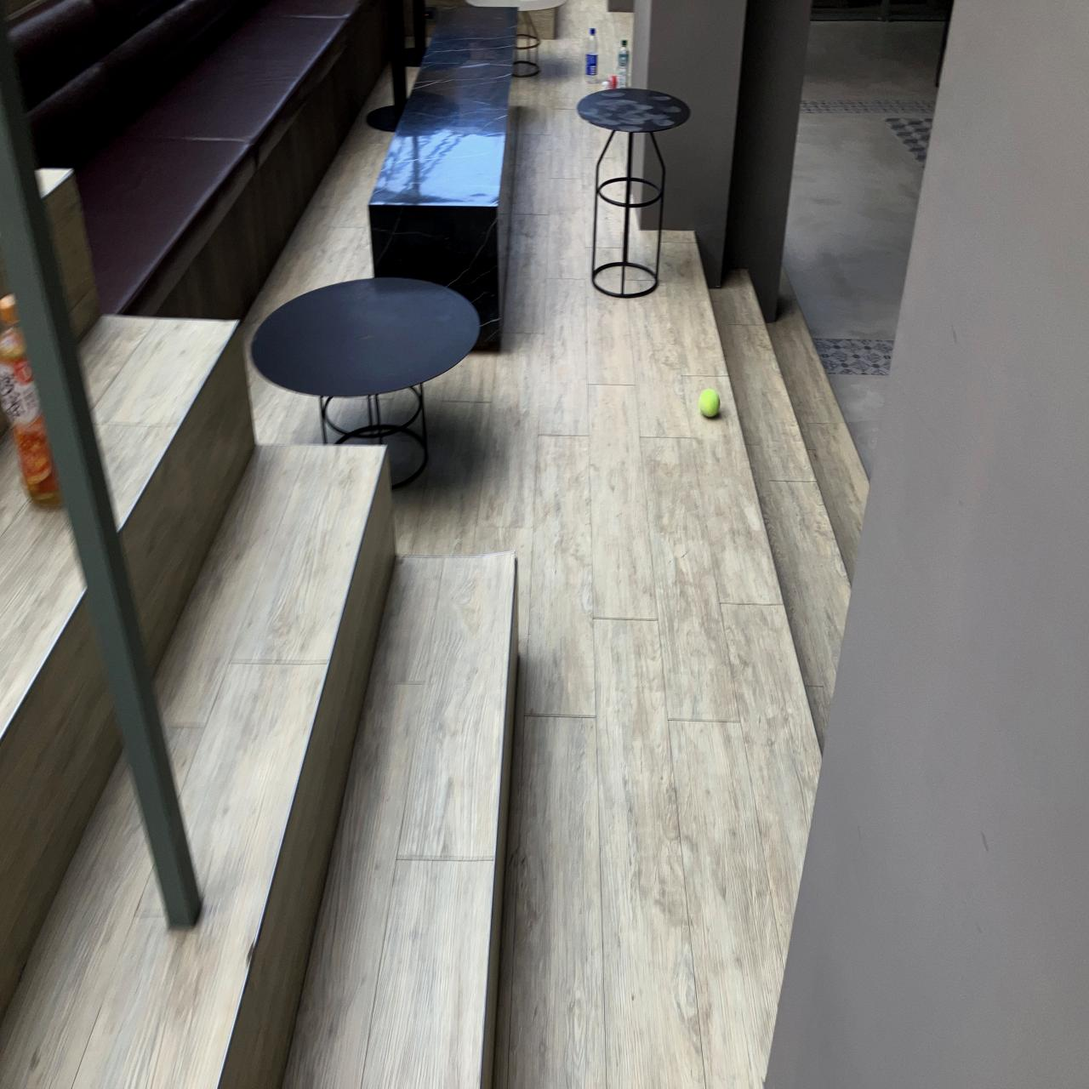tennisball: (503, 931, 526, 960)
